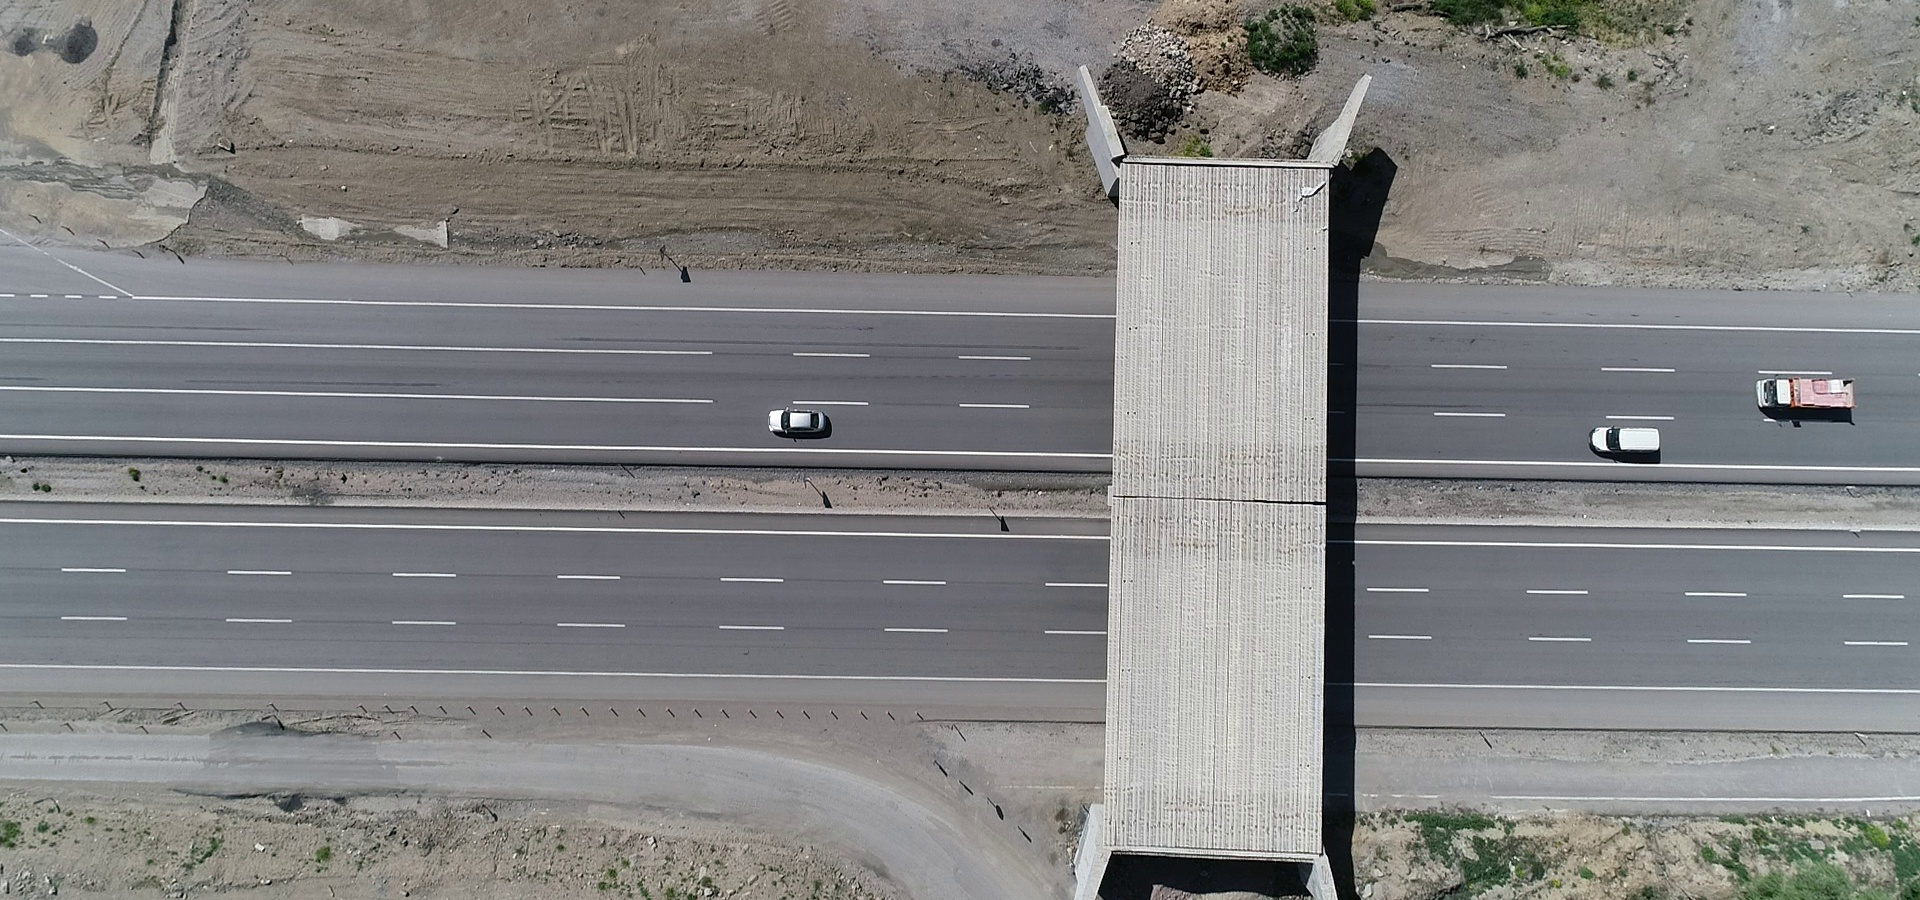arac: (1753, 367, 1858, 419), (1587, 418, 1682, 462), (762, 400, 835, 438)
